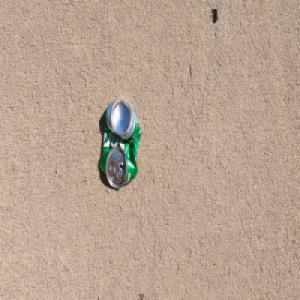SodaCan: (99, 97, 142, 190)
